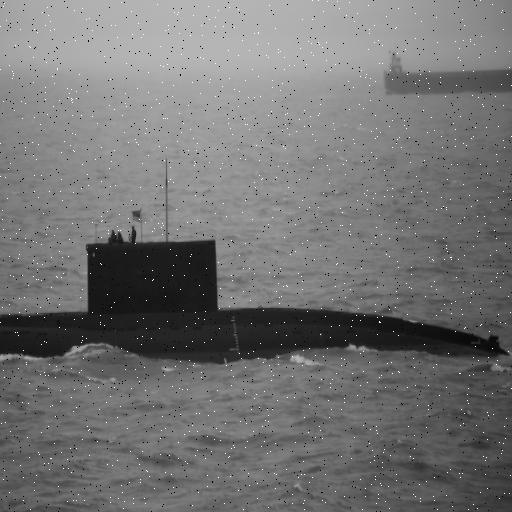submarine: (1, 218, 508, 359)
